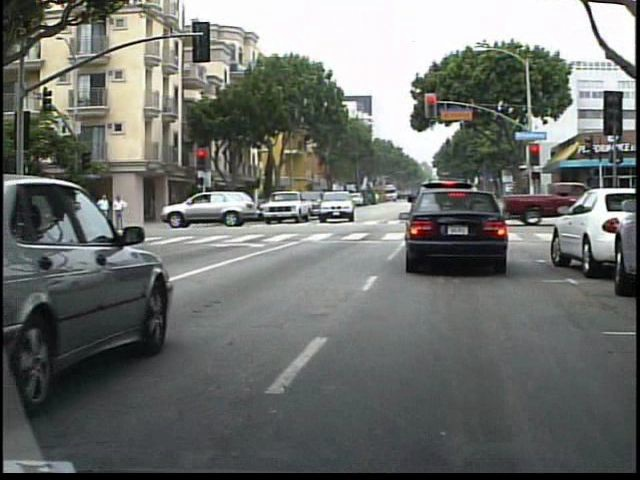person: (91, 191, 109, 234), (108, 192, 124, 233)
